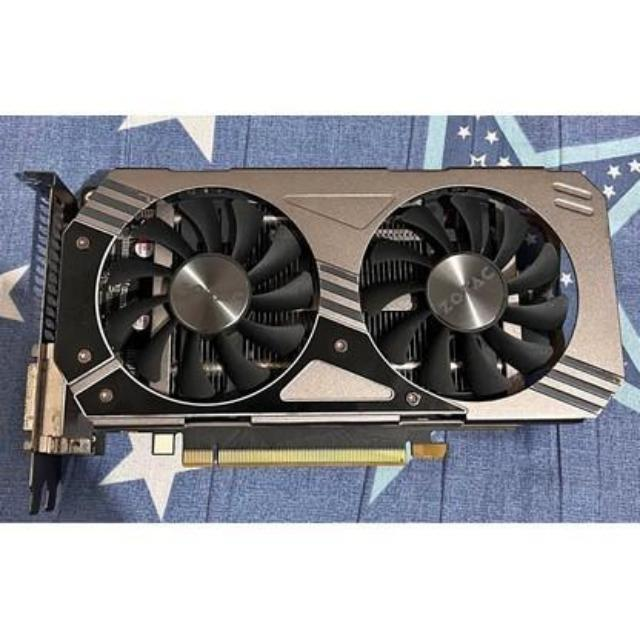GPU: (31, 165, 640, 468)
